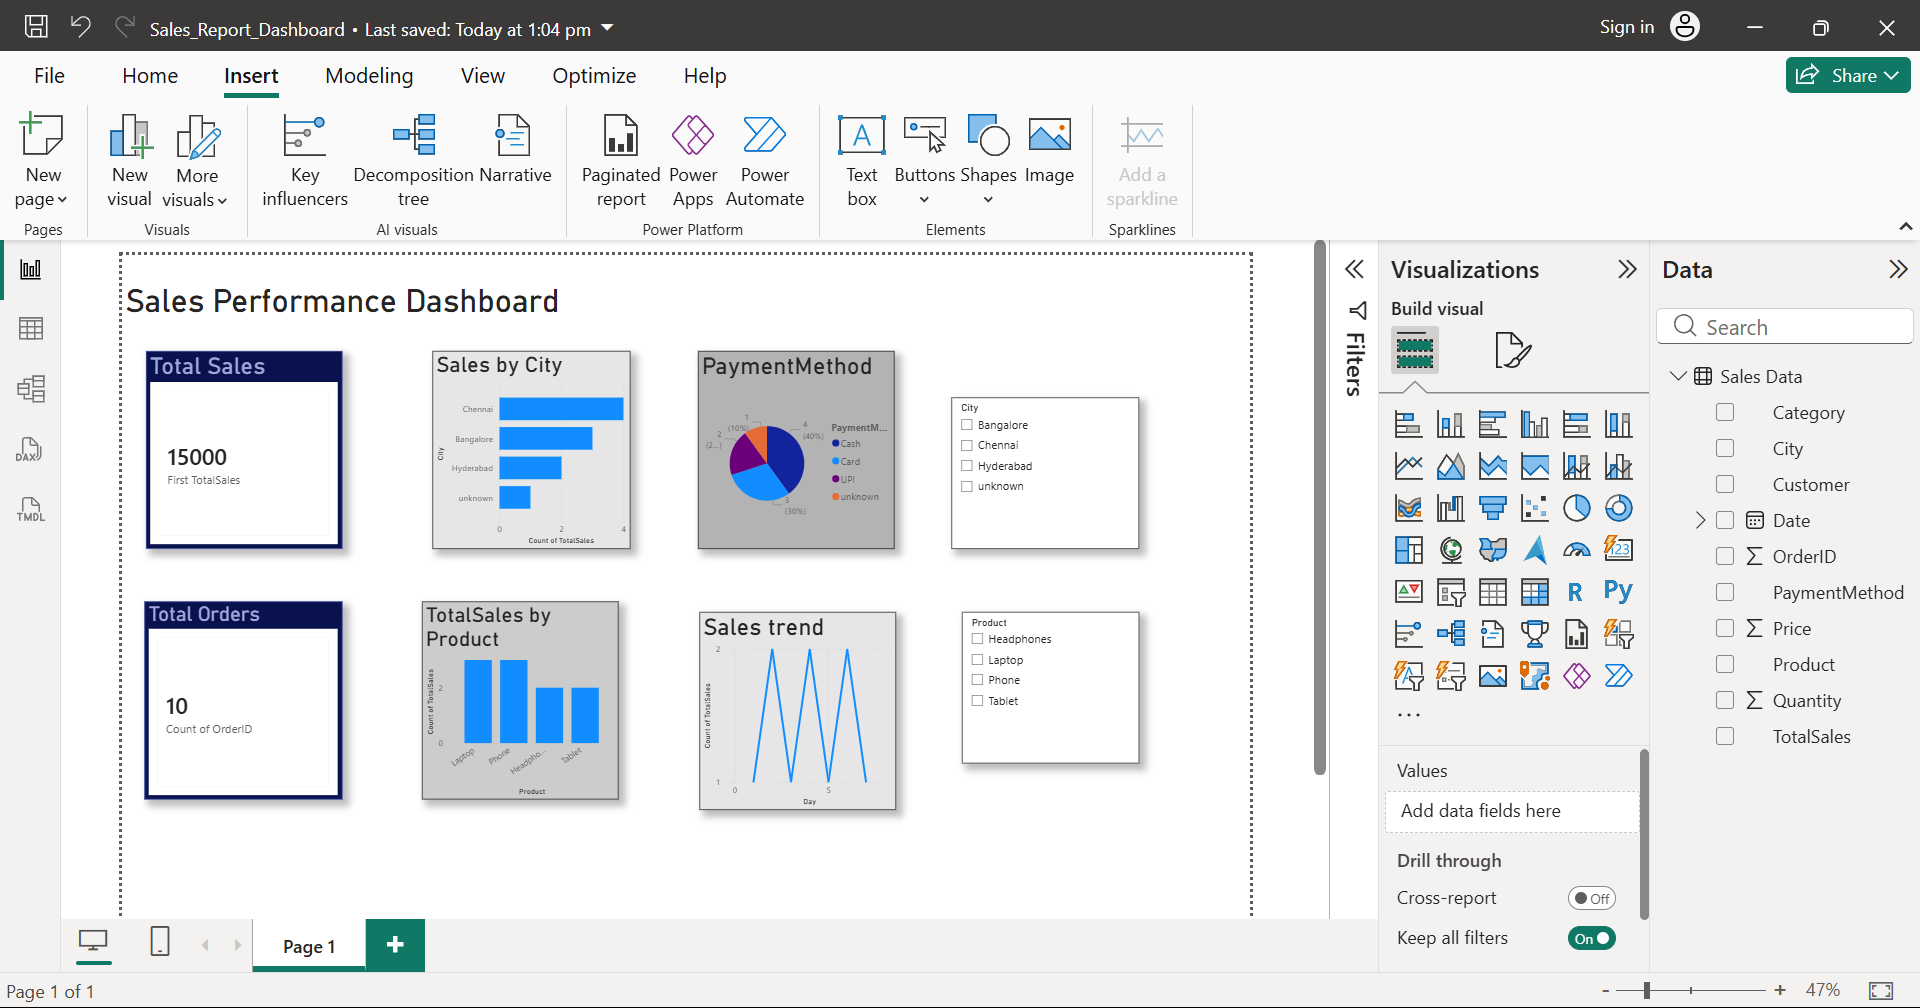

The page's visual inventory and layout, read from the dashboard file:
{"tool":"powerbi","page":{"name":"Page 1","canvas":[1600,1200],"ordinal":0},"visuals":[{"type":"cardVisual","title":"Total Sales","fields":{"Data":["Min(Sales Data.TotalSales)"]},"box":[34,136.2,278.7,280.9],"z":0},{"type":"cardVisual","title":"Total Orders","fields":{"Data":["CountNonNull(Sales Data.OrderID)"]},"box":[31.9,491.5,280.9,280.9],"z":1000},{"type":"clusteredBarChart","title":"Sales by City","fields":{"Category":["Sales Data.City"],"Y":["CountNonNull(Sales Data.TotalSales)"]},"box":[440.4,136.2,280.9,280.9],"z":1001},{"type":"clusteredColumnChart","title":" TotalSales by Product","fields":{"Category":["Sales Data.Product"],"Y":["CountNonNull(Sales Data.TotalSales)"]},"box":[425.5,491.5,278.7,280.9],"z":1002},{"type":"pieChart","title":" PaymentMethod","fields":{"Category":["Sales Data.PaymentMethod"],"Y":["CountNonNull(Sales Data.OrderID)"]},"box":[817,136.2,278.7,280.9],"z":1003},{"type":"lineChart","title":"Sales trend","fields":{"Category":["Sales Data.Date.Variation.Date Hierarchy.Day"],"Y":["CountNonNull(Sales Data.TotalSales)"]},"box":[819.1,506.4,278.7,280.9],"z":1004},{"type":"slicer","fields":{"Values":["Sales Data.City"]},"box":[1176.6,202.1,266,214.9],"z":1005},{"type":"slicer","fields":{"Values":["Sales Data.Product"]},"box":[1191.5,506.4,251.1,214.9],"z":1006},{"type":"textbox","title":"Sales Performance Dashboard","box":[0,38.3,655.3,59.6],"z":1007}]}

Visuals, with their boxes on the page's 1600x1200 design canvas (x1, y1, x2, y2). These are canvas units, not pixel positions in the 1920x1008 screenshot, which may show the page scaled, cropped or inside an application window:
"Total Sales" cardVisual: crop(34, 136, 313, 417)
"Total Orders" cardVisual: crop(32, 492, 313, 772)
"Sales by City" clusteredBarChart: crop(440, 136, 721, 417)
" TotalSales by Product" clusteredColumnChart: crop(426, 492, 704, 772)
" PaymentMethod" pieChart: crop(817, 136, 1096, 417)
"Sales trend" lineChart: crop(819, 506, 1098, 787)
slicer - Sales Data.City: crop(1177, 202, 1443, 417)
slicer - Sales Data.Product: crop(1192, 506, 1443, 721)
"Sales Performance Dashboard" textbox: crop(0, 38, 655, 98)
